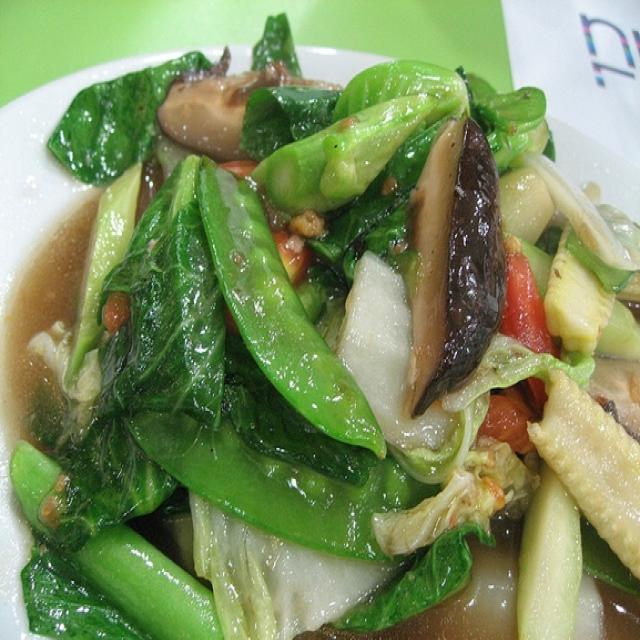蔬菜料理: (25, 48, 629, 626)
